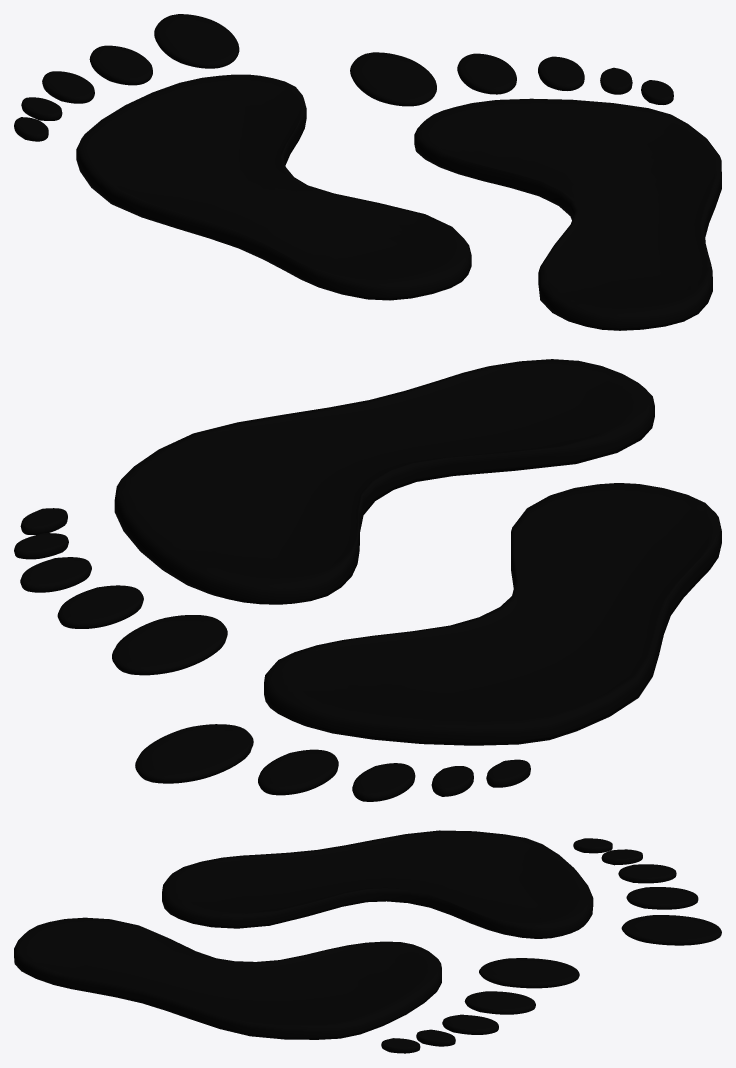
File: Huellas.fbx
3 renders of one model, top to bottom at view 1: azimuth 30°, elevation 25°; view 2: azimuth 150°, elevation 25°; view 3: azimuth 270°, elevation 25°, orthographic. The views are drawn at different scales.
Visible parts, largest first — view 1: Huella; view 2: Huella; view 3: Huella.
Part boxes in pixels (x1,y1,x2,y2): Huella: (14, 14, 721, 330); Huella: (14, 359, 721, 801); Huella: (14, 830, 721, 1053).
Bounding box in the file's own units: 1.17 × 0.0346 × 1.66.
